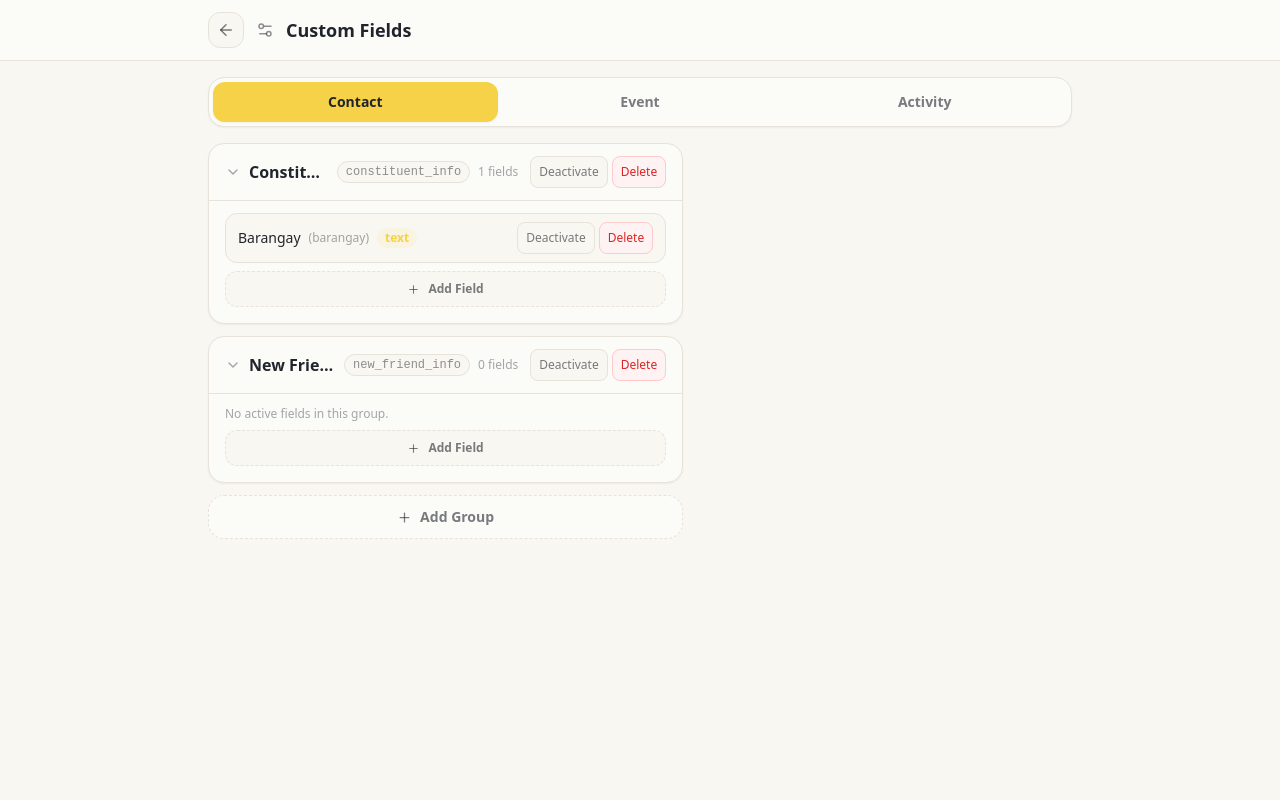
Test: CustomFieldsPage — 409 probe surfaces affected_contacts (AC4) › hard-delete group: shows affected contact count when 409 returned
Expected: the text "Constituent Info" is shown, [249,160,329,184]
Click the button with aria-label "delete group" at (639, 172), box [612,156,666,188]
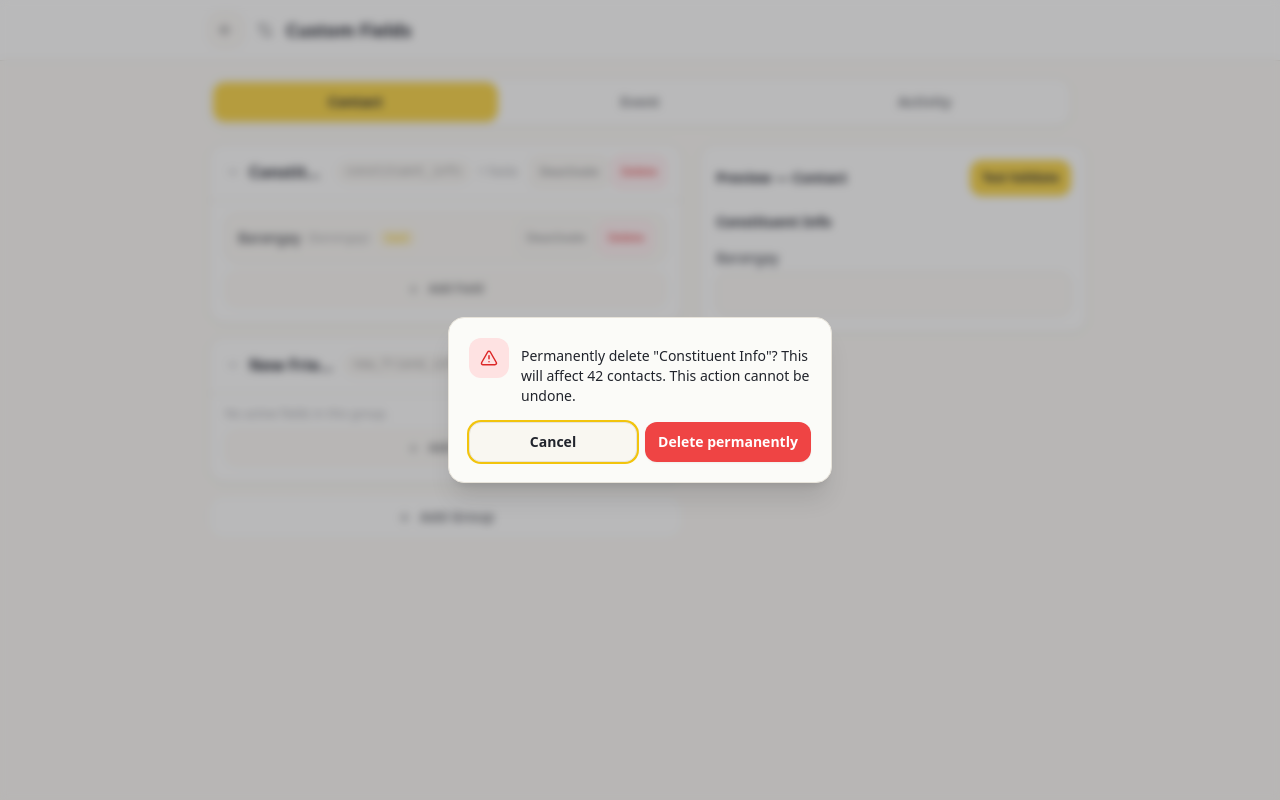
Result: the dialog is shown at [448,317,832,483]
Result: the dialog shows "42" at [521,346,810,405]
